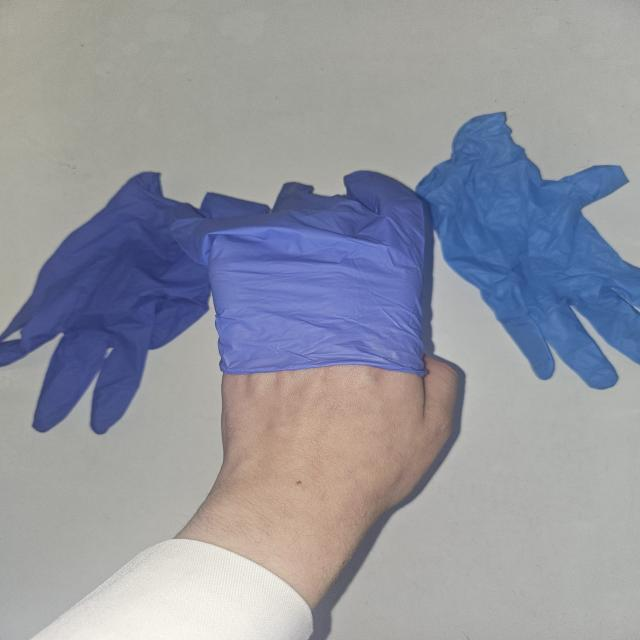glove_partial: (168, 170, 464, 500)
